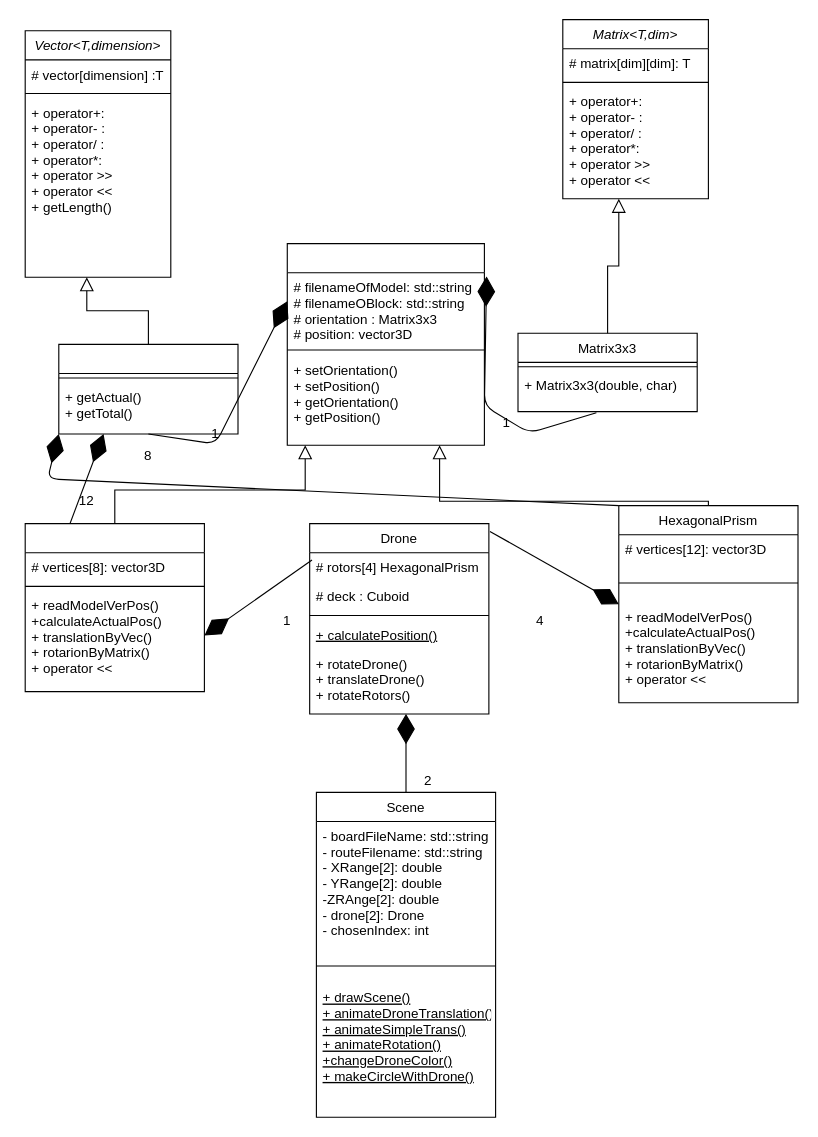
Some shapes in this 818 by 1137 pixel diagram are drawn without their labels. Each missing label, with the box of its shape:
Cuboid: (24, 522, 204, 692)
GeometricalBloc: (286, 242, 484, 445)
vector3D: (58, 343, 238, 434)
